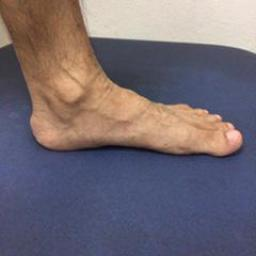Medial View -Left Foot-: (10, 54, 248, 180)
